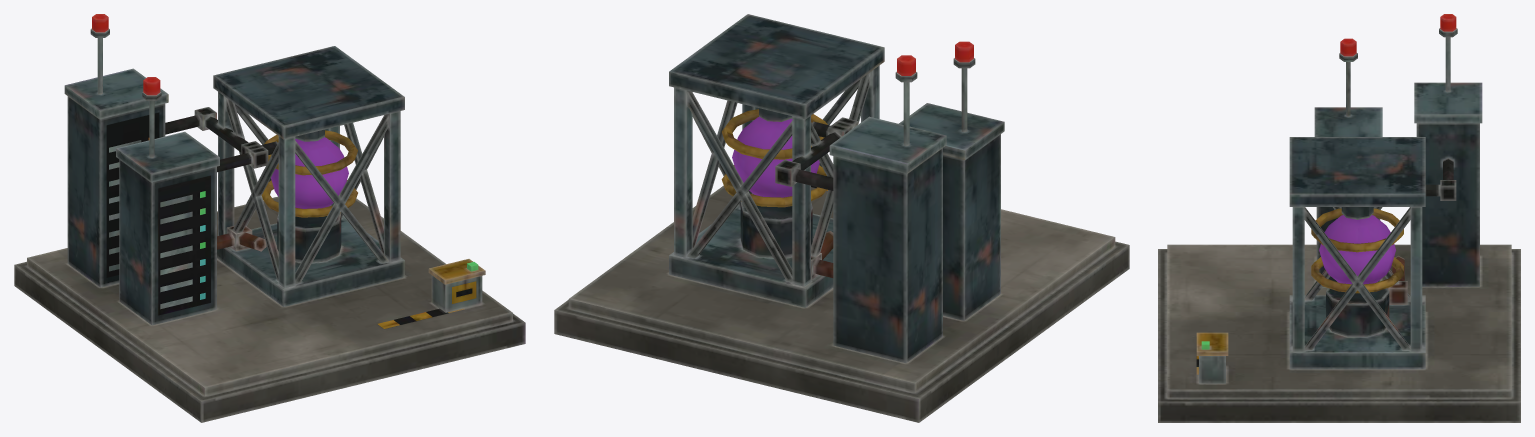
The model's file is research_network_node.glb.
The picture shows the model from 3 angles, left to right: view 1: azimuth 30°, elevation 25°; view 2: azimuth 150°, elevation 25°; view 3: azimuth 270°, elevation 25°; orthographic projection. The views are drawn at different scales.
Visible parts, largest first — view 1: te_research_network_node; view 2: te_research_network_node; view 3: te_research_network_node.
Part boxes in pixels (x1=…): te_research_network_node: x1=14, y1=14, x2=525, y2=422; te_research_network_node: x1=554, y1=14, x2=1129, y2=422; te_research_network_node: x1=1158, y1=14, x2=1520, y2=422.
Bounding box in the file's own units: 0.8 × 0.6708 × 0.8.
Materials: 1 (1 with a texture image).
